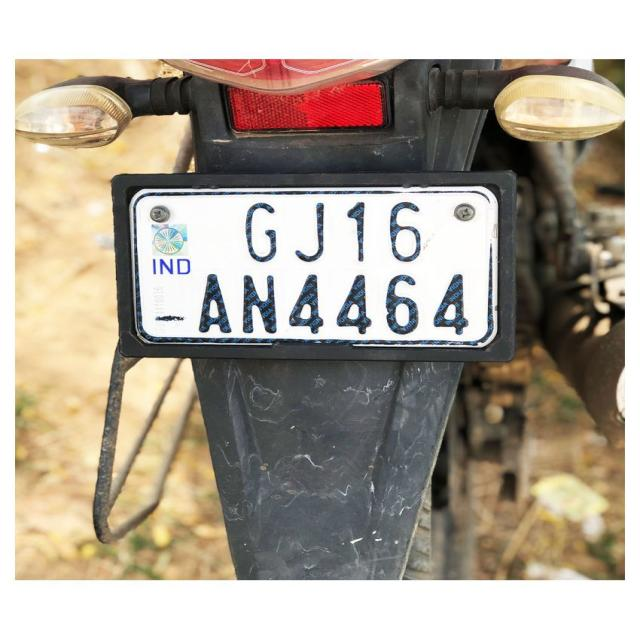license_plate: (110, 170, 516, 362)
